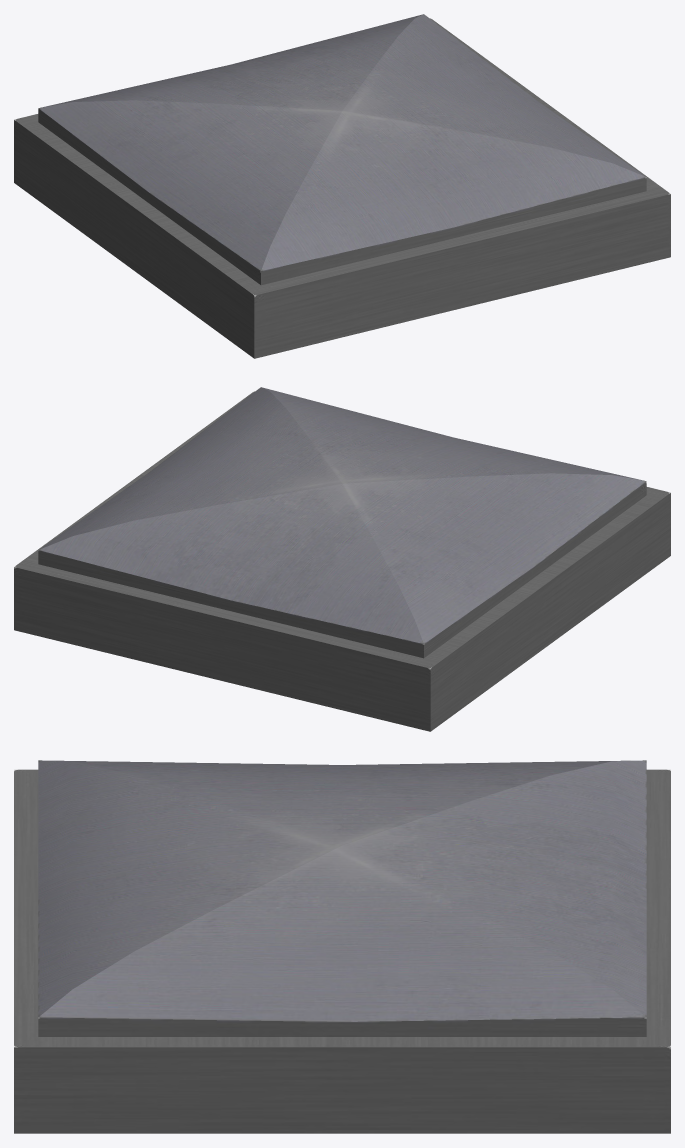
Rendered from roof_thing.fbx.
3 views of the same model, one above another, from view 1: azimuth 30°, elevation 25°; view 2: azimuth 150°, elevation 25°; view 3: azimuth 270°, elevation 25° (orthographic). The views are drawn at different scales.
Parts seen in each view (by area): view 1: roof_thing; view 2: roof_thing; view 3: roof_thing.
Part boxes in pixels (bbox=[...]): roof_thing: bbox=[14, 14, 670, 358]; roof_thing: bbox=[14, 387, 670, 731]; roof_thing: bbox=[14, 760, 670, 1133].
Bounding box in the file's own units: 102 × 25.53 × 102.
